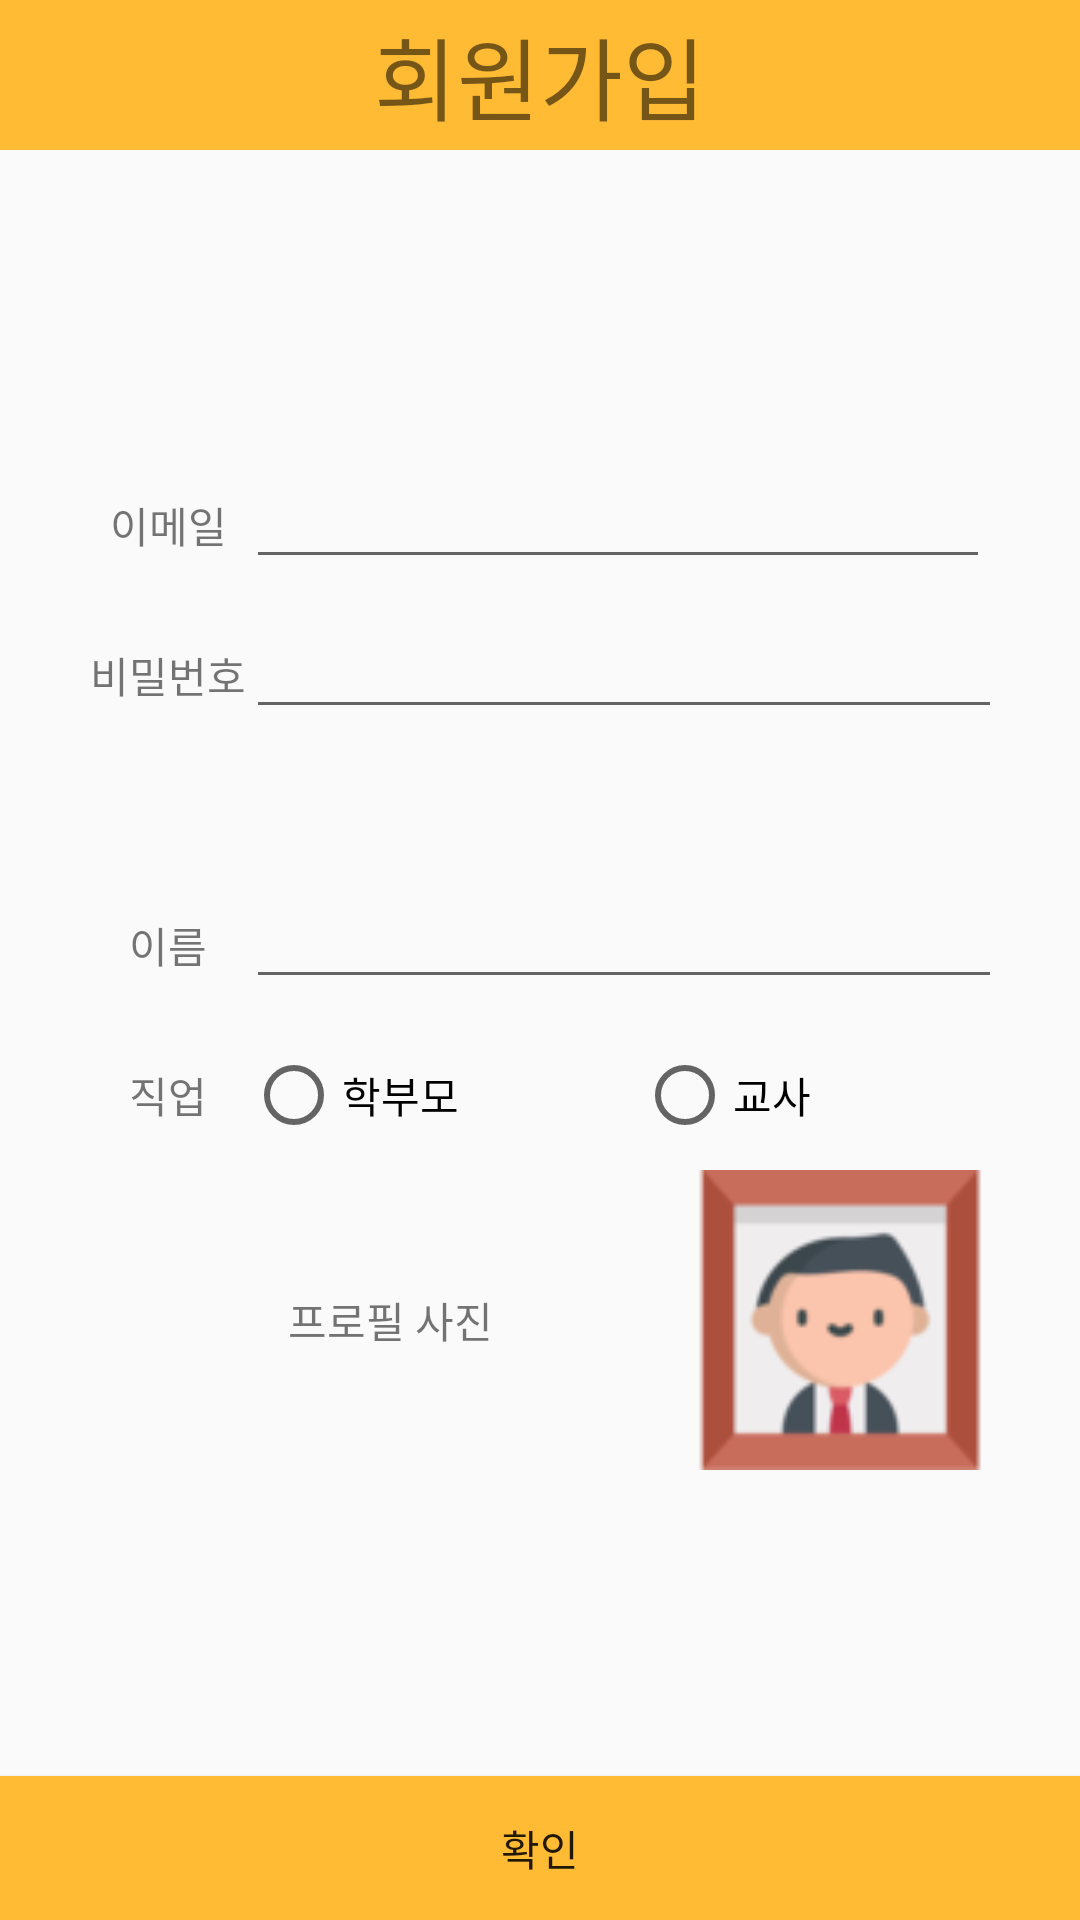

Where to tap for icons on this 1080px×1920px app screen, as [x,y]:
imgbtn profile: [840,1320]
